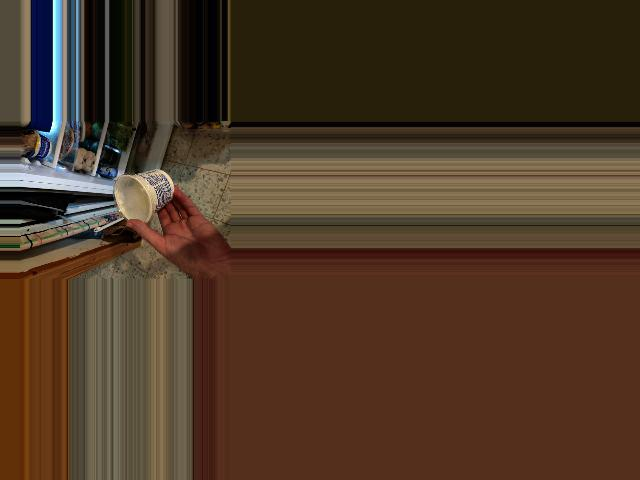cotage: (114, 173, 177, 220)
